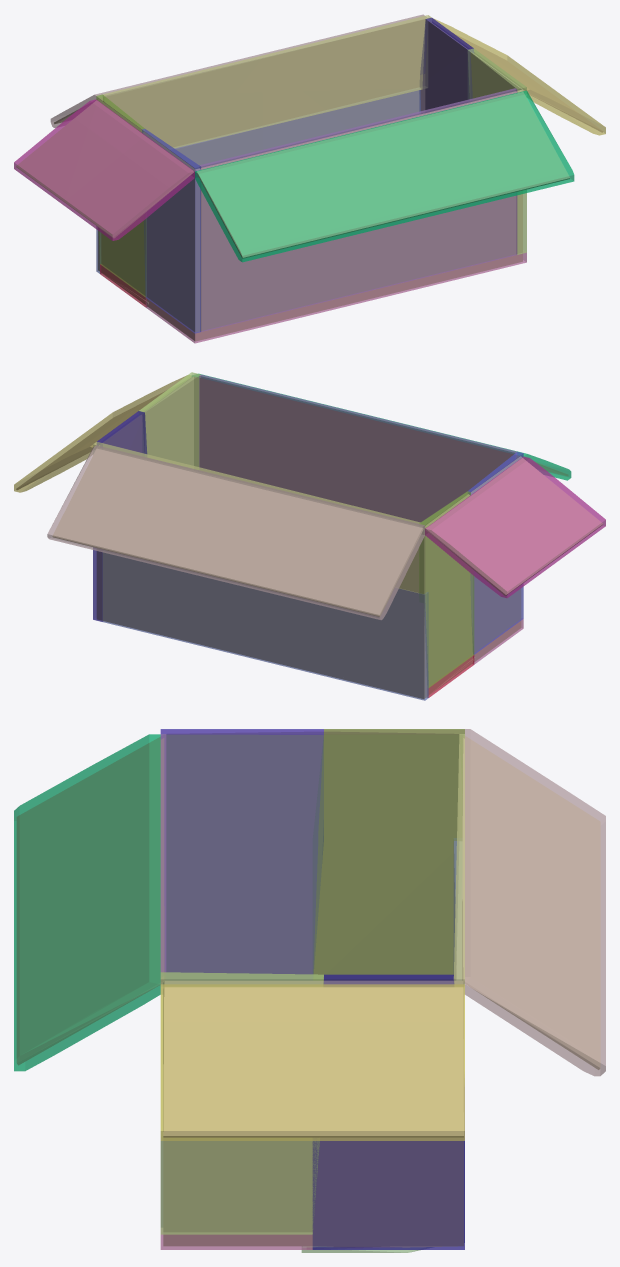
File: boxVhacd.fbx
3 renders of one model, top to bottom at view 1: azimuth 30°, elevation 25°; view 2: azimuth 150°, elevation 25°; view 3: azimuth 270°, elevation 25°, orthographic. The views are drawn at different scales.
Parts seen in each view (by area): view 1: Cube_GM, Shape_IndexedFaceSet.001, Shape_IndexedFaceSet.010, Shape_IndexedFaceSet.005, Shape_IndexedFaceSet.003, Shape_IndexedFaceSet.009, Shape_IndexedFaceSet.006, Shape_IndexedFaceSet.004, Shape_IndexedFaceSet.007, Shape_IndexedFaceSet.008, Shape_IndexedFaceSet.011, Shape_IndexedFaceSet.012 (+2 smaller); view 2: Cube_GM, Shape_IndexedFaceSet.002, Shape_IndexedFaceSet.010, Shape_IndexedFaceSet.006, Shape_IndexedFaceSet.003, Shape_IndexedFaceSet.011, Shape_IndexedFaceSet.012, Shape_IndexedFaceSet.009, Shape_IndexedFaceSet.008, Shape_IndexedFaceSet.005, Shape_IndexedFaceSet.007, Shape_IndexedFaceSet.001 (+2 smaller); view 3: Cube_GM, Shape_IndexedFaceSet.008, Shape_IndexedFaceSet.001, Shape_IndexedFaceSet.009, Shape_IndexedFaceSet.002, Shape_IndexedFaceSet.011, Shape_IndexedFaceSet.007, Shape_IndexedFaceSet.012, Shape_IndexedFaceSet.004, Shape_IndexedFaceSet.005, Shape_IndexedFaceSet.010, Shape_IndexedFaceSet.003.
Boxes of the visible parts, bbox=[...] form: Cube_GM: bbox=[16, 19, 603, 341]; Shape_IndexedFaceSet.001: bbox=[195, 90, 574, 262]; Shape_IndexedFaceSet.010: bbox=[199, 88, 517, 331]; Shape_IndexedFaceSet.005: bbox=[103, 15, 431, 148]; Shape_IndexedFaceSet.003: bbox=[14, 99, 194, 240]; Shape_IndexedFaceSet.009: bbox=[142, 128, 200, 333]; Shape_IndexedFaceSet.006: bbox=[96, 88, 420, 273]; Shape_IndexedFaceSet.004: bbox=[145, 251, 526, 343]; Shape_IndexedFaceSet.007: bbox=[420, 18, 473, 111]; Shape_IndexedFaceSet.008: bbox=[432, 18, 605, 135]; Shape_IndexedFaceSet.011: bbox=[96, 94, 146, 297]; Shape_IndexedFaceSet.012: bbox=[467, 48, 526, 254]; Cube_GM: bbox=[16, 376, 602, 698]; Shape_IndexedFaceSet.002: bbox=[47, 445, 424, 620]; Shape_IndexedFaceSet.010: bbox=[199, 374, 516, 522]; Shape_IndexedFaceSet.006: bbox=[102, 552, 428, 700]; Shape_IndexedFaceSet.003: bbox=[425, 456, 605, 598]; Shape_IndexedFaceSet.011: bbox=[419, 491, 474, 687]; Shape_IndexedFaceSet.012: bbox=[139, 372, 200, 466]; Shape_IndexedFaceSet.009: bbox=[467, 451, 523, 654]; Shape_IndexedFaceSet.008: bbox=[14, 375, 190, 492]; Shape_IndexedFaceSet.005: bbox=[93, 442, 420, 593]; Shape_IndexedFaceSet.007: bbox=[93, 411, 147, 621]; Shape_IndexedFaceSet.001: bbox=[192, 373, 571, 480]; Cube_GM: bbox=[16, 734, 600, 1248]; Shape_IndexedFaceSet.008: bbox=[160, 984, 464, 1140]; Shape_IndexedFaceSet.001: bbox=[14, 734, 160, 1071]; Shape_IndexedFaceSet.009: bbox=[160, 729, 323, 974]; Shape_IndexedFaceSet.002: bbox=[465, 729, 605, 1076]; Shape_IndexedFaceSet.011: bbox=[313, 729, 464, 974]; Shape_IndexedFaceSet.007: bbox=[312, 974, 464, 1249]; Shape_IndexedFaceSet.012: bbox=[160, 972, 323, 1234]; Shape_IndexedFaceSet.004: bbox=[160, 1228, 312, 1249]; Shape_IndexedFaceSet.005: bbox=[453, 734, 464, 1074]; Shape_IndexedFaceSet.010: bbox=[160, 734, 166, 1226]; Shape_IndexedFaceSet.003: bbox=[161, 730, 464, 734].
Bounding box in the file's own units: 30.3 × 20.4 × 10.49.
